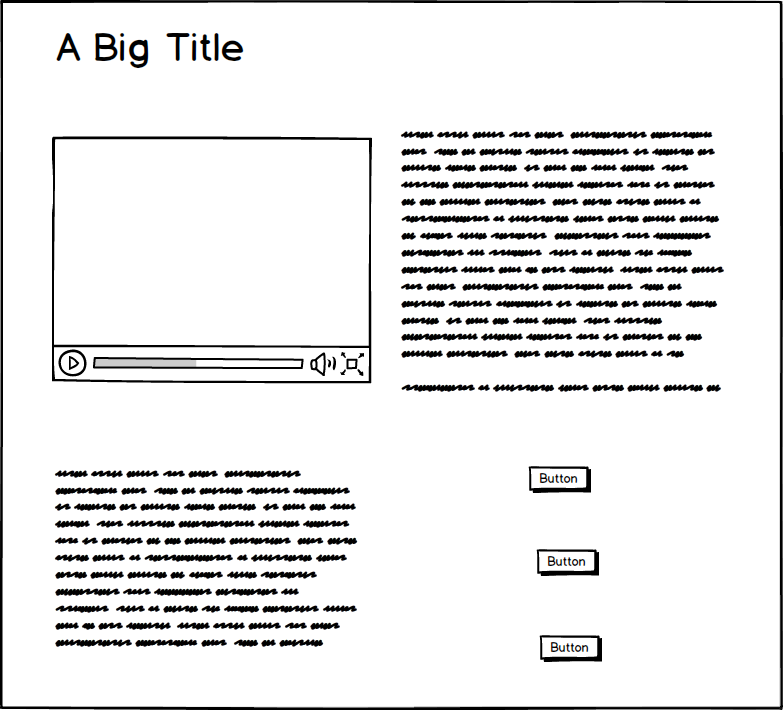button: (530, 543, 609, 582), (524, 461, 597, 497), (535, 632, 608, 667)
h1: (44, 22, 249, 72)
p: (394, 125, 740, 404), (50, 461, 360, 654)
video: (46, 132, 375, 388)
